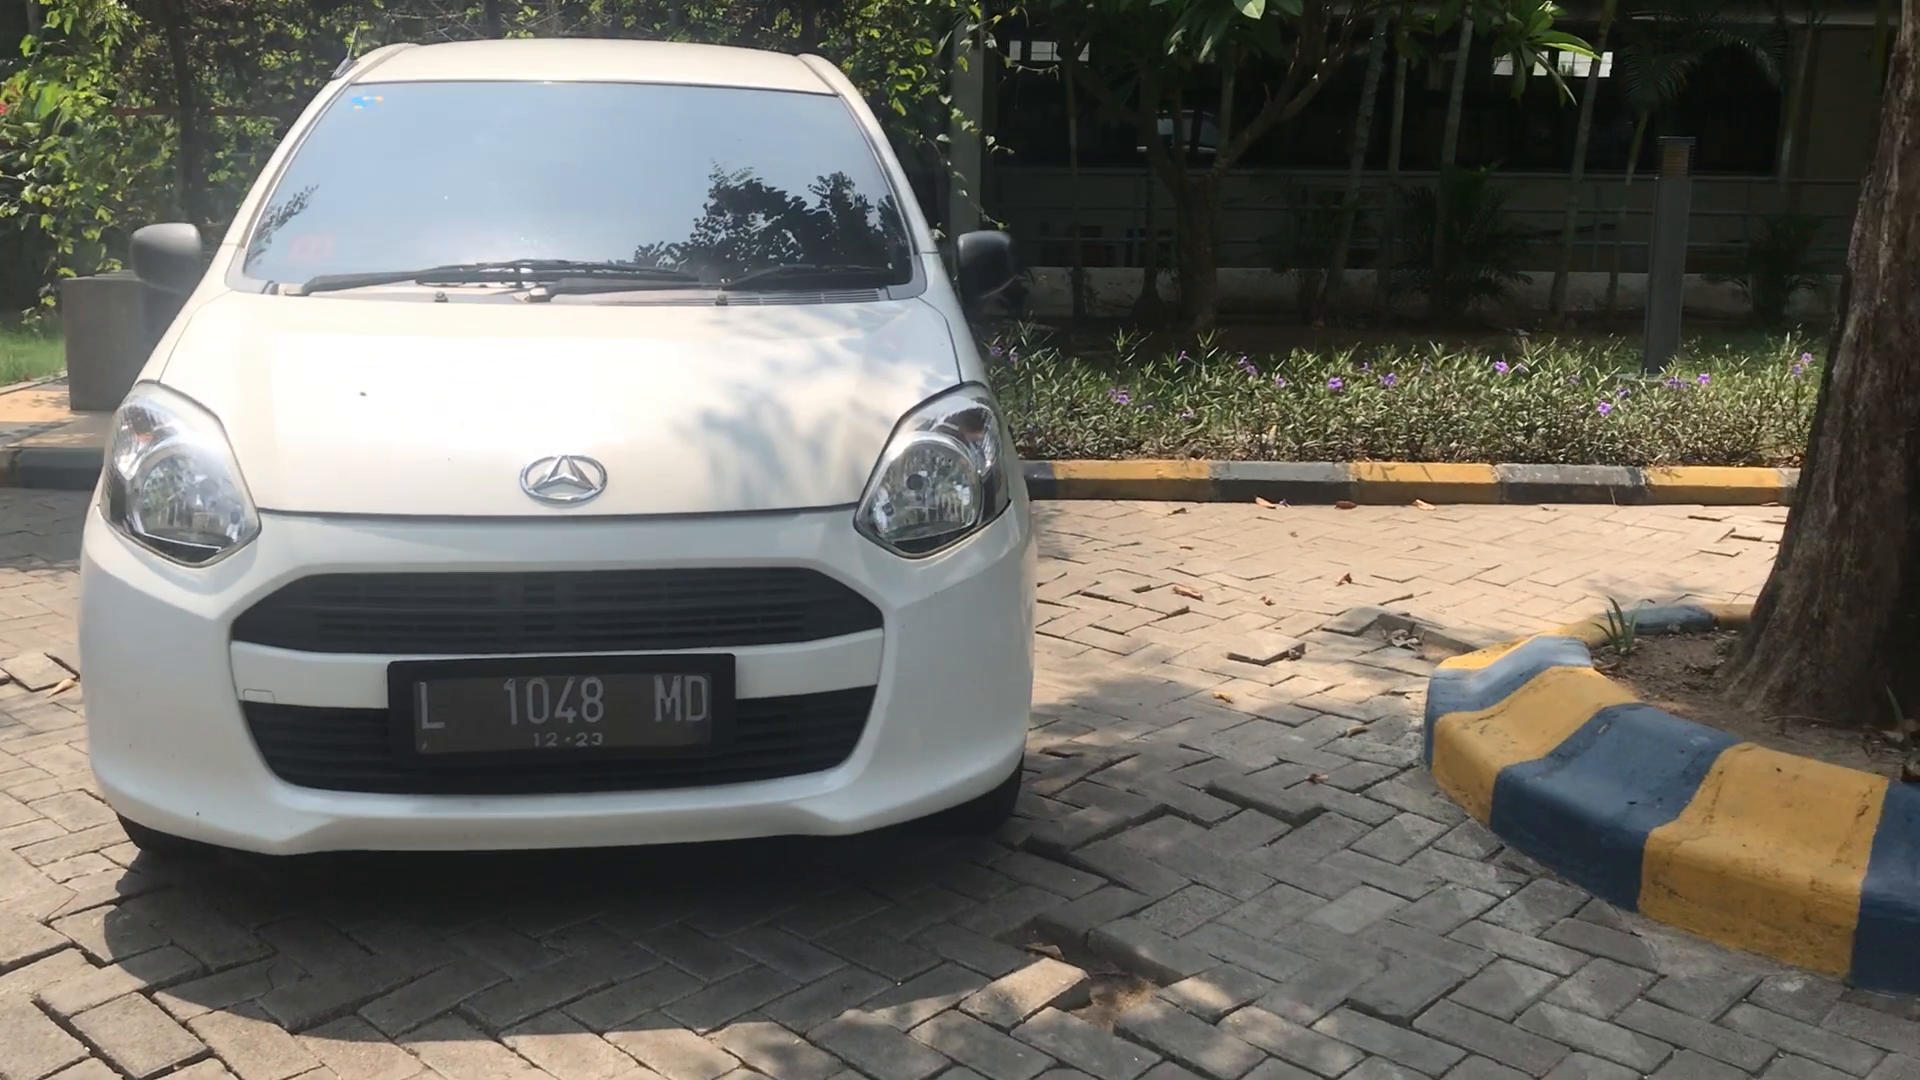plate: (395, 662, 735, 752)
